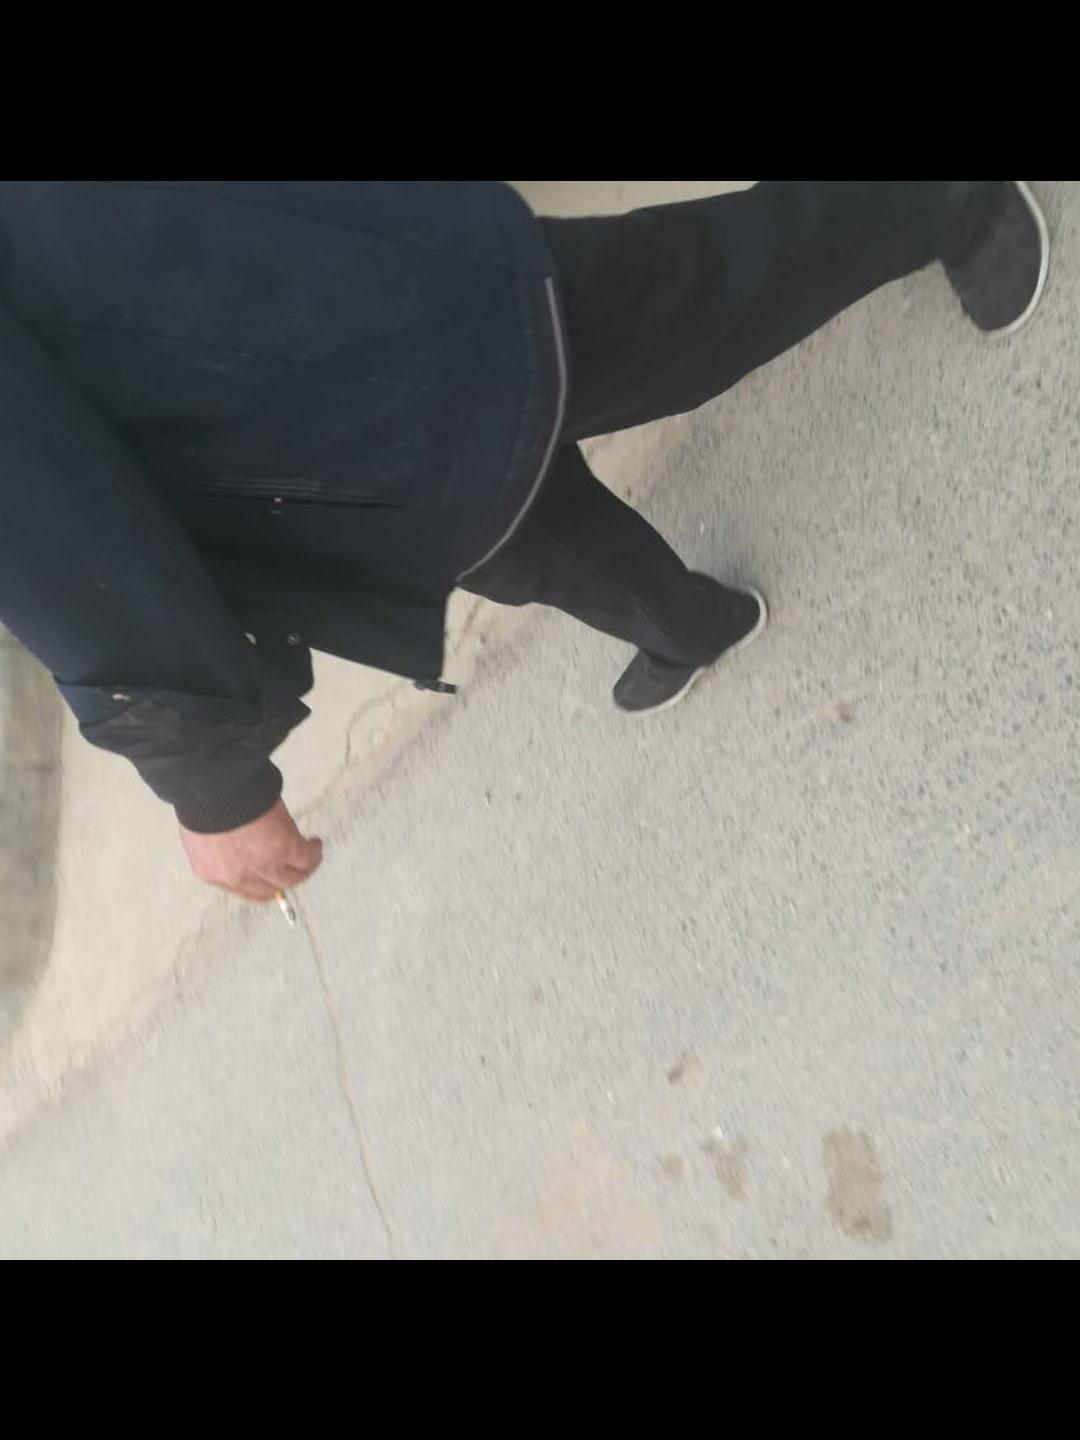Cigarette: (275, 888, 296, 923)
